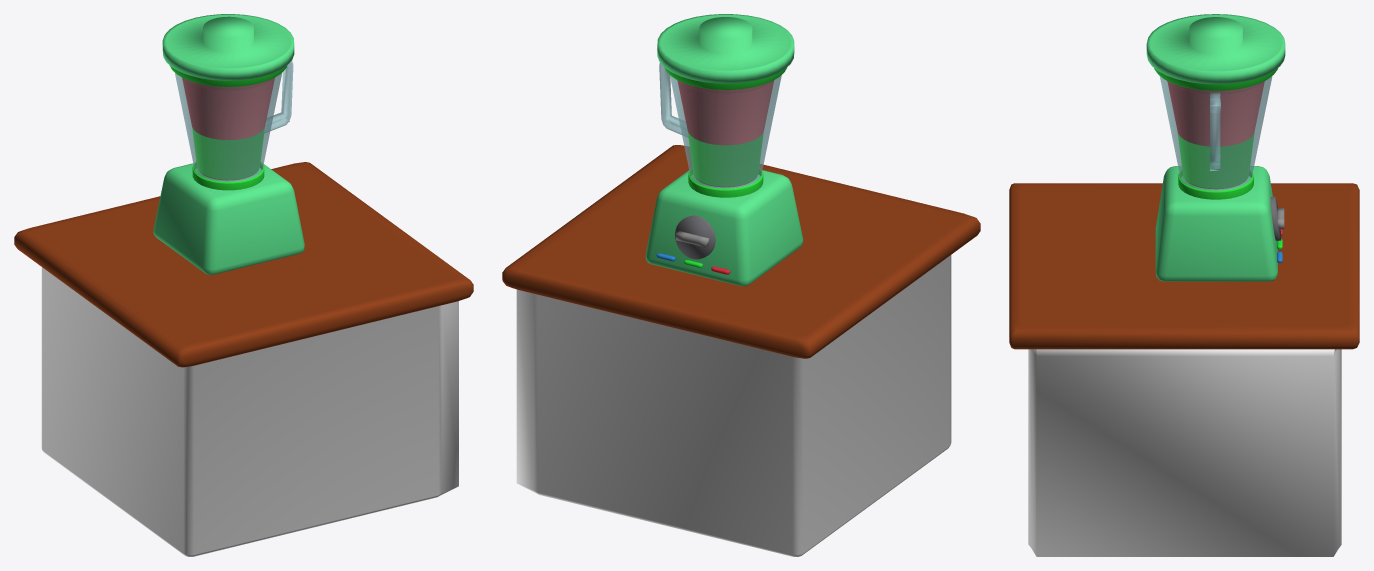
File: Blender.glb
The picture shows the model from 3 angles, left to right: view 1: azimuth 30°, elevation 25°; view 2: azimuth 150°, elevation 25°; view 3: azimuth 270°, elevation 25°; orthographic projection. The views are drawn at different scales.
Visible parts, largest first — view 1: Cube.004; view 2: Cube.004; view 3: Cube.004.
Part boxes in pixels (x1,y1,x2,y2): Cube.004: (14, 14, 473, 556); Cube.004: (502, 14, 980, 556); Cube.004: (1009, 14, 1359, 556).
Size of the model in its own units: 0.9205 by 1.29 by 0.8961.
